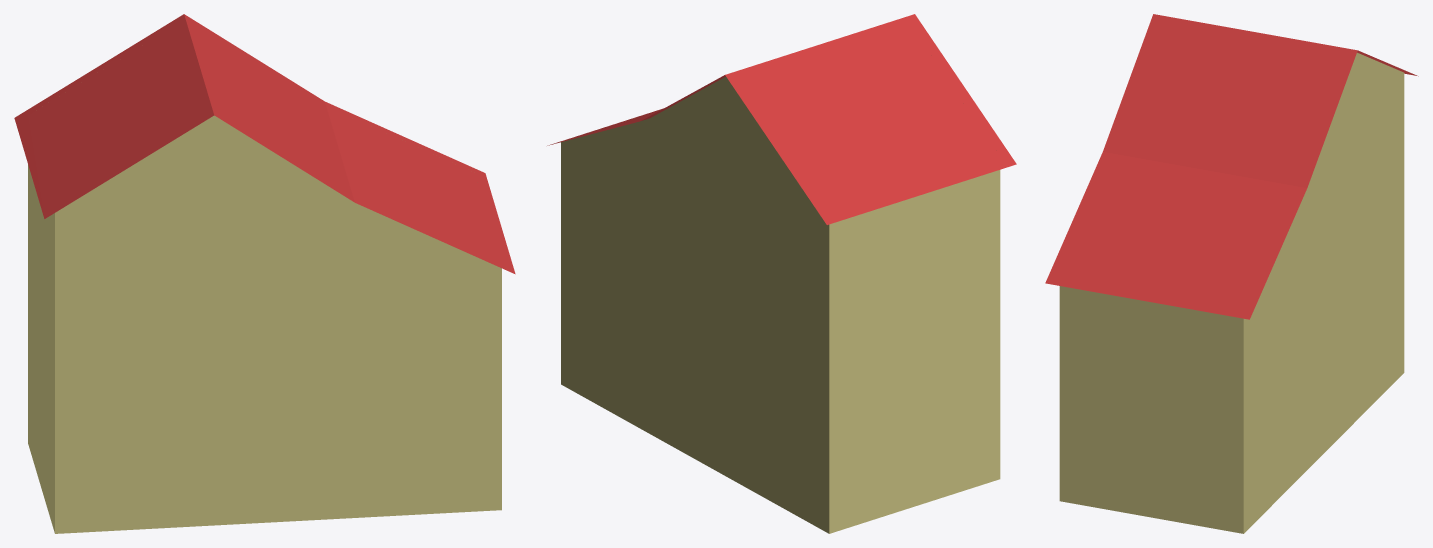
3 renders of one model, left to right at view 1: azimuth 30°, elevation 25°; view 2: azimuth 150°, elevation 25°; view 3: azimuth 270°, elevation 25°, orthographic. The views are drawn at different scales.
Bounding box in the file's own units: 10.95 × 8.39 × 9.44.
